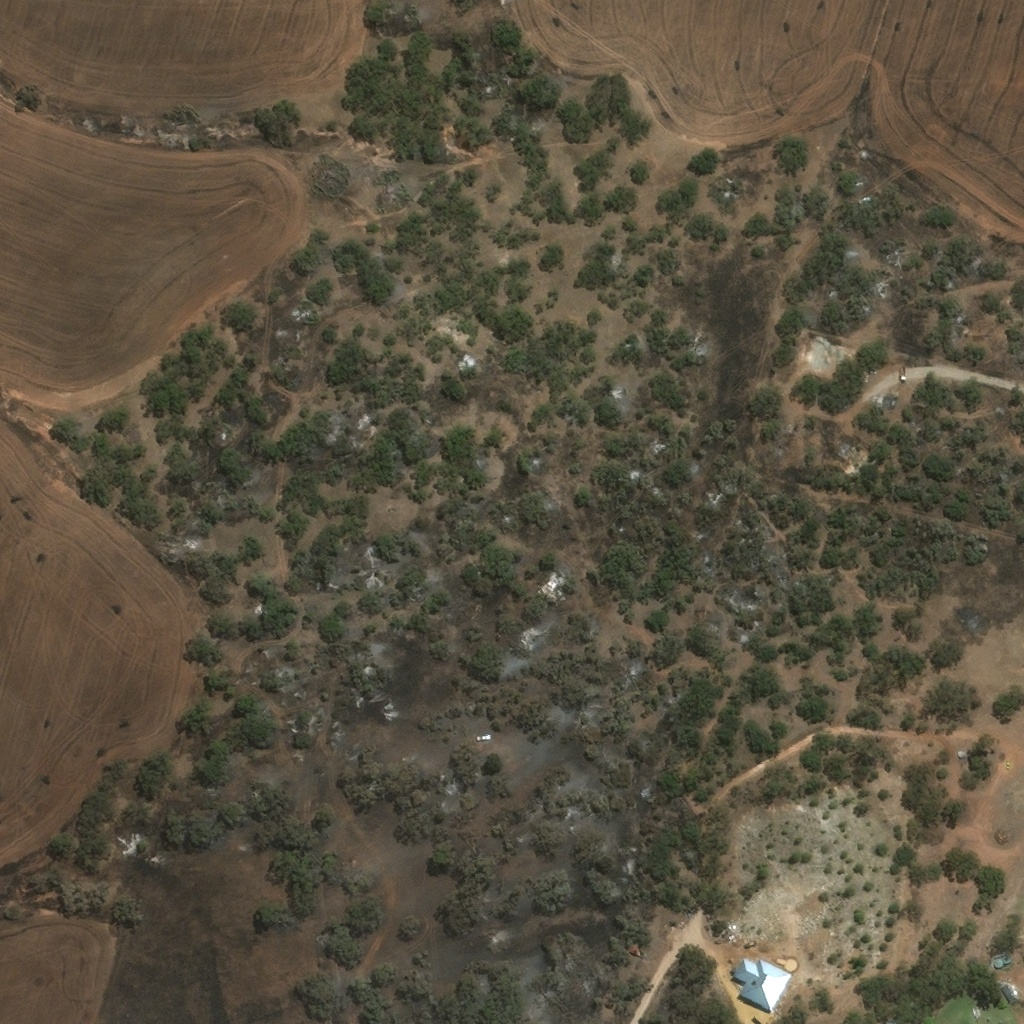0 no-damage: (732, 956, 793, 1010), (988, 950, 1014, 967), (1000, 982, 1018, 1001)
